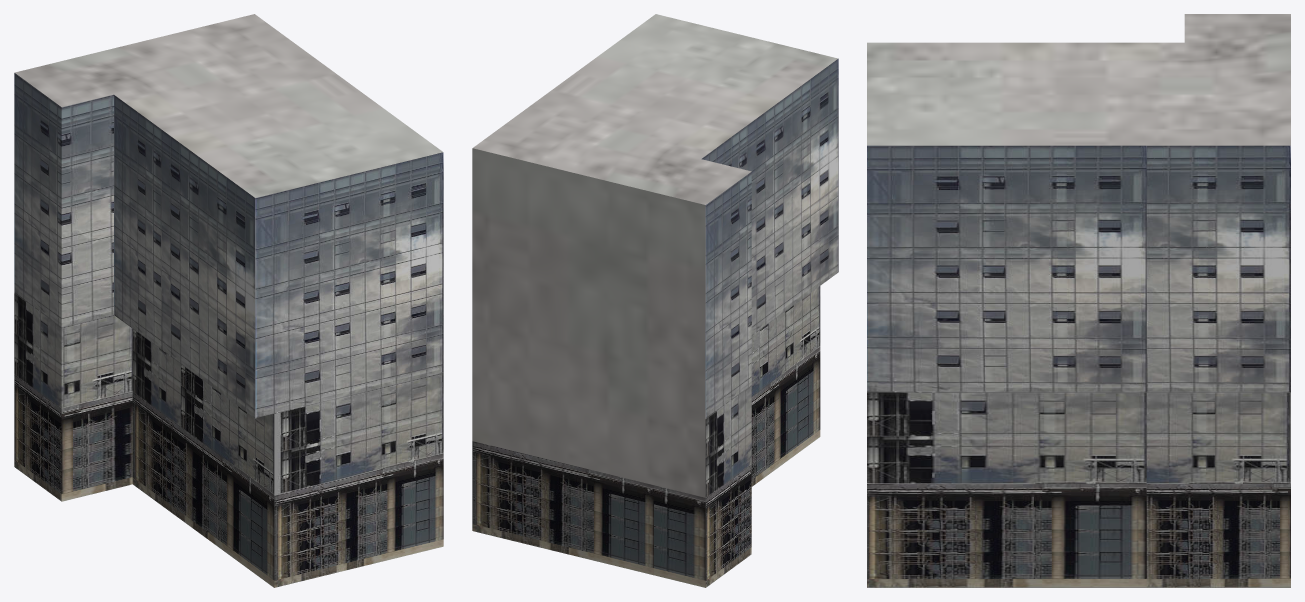
The picture shows the model from 3 angles, left to right: view 1: azimuth 30°, elevation 25°; view 2: azimuth 150°, elevation 25°; view 3: azimuth 270°, elevation 25°; orthographic projection. The views are drawn at different scales.
Parts seen in each view (by area): view 1: 5d8dc6124fec9608785f6445; view 2: 5d8dc6124fec9608785f6445; view 3: 5d8dc6124fec9608785f6445.
Boxes of the visible parts, x1,y1,x2,y2 form: 5d8dc6124fec9608785f6445: (14,14,443,587); 5d8dc6124fec9608785f6445: (472,14,838,587); 5d8dc6124fec9608785f6445: (867,14,1290,587).
Size of the model in its own units: 21.67 by 33.99 by 29.5.
Materials: 1 (1 with a texture image).
